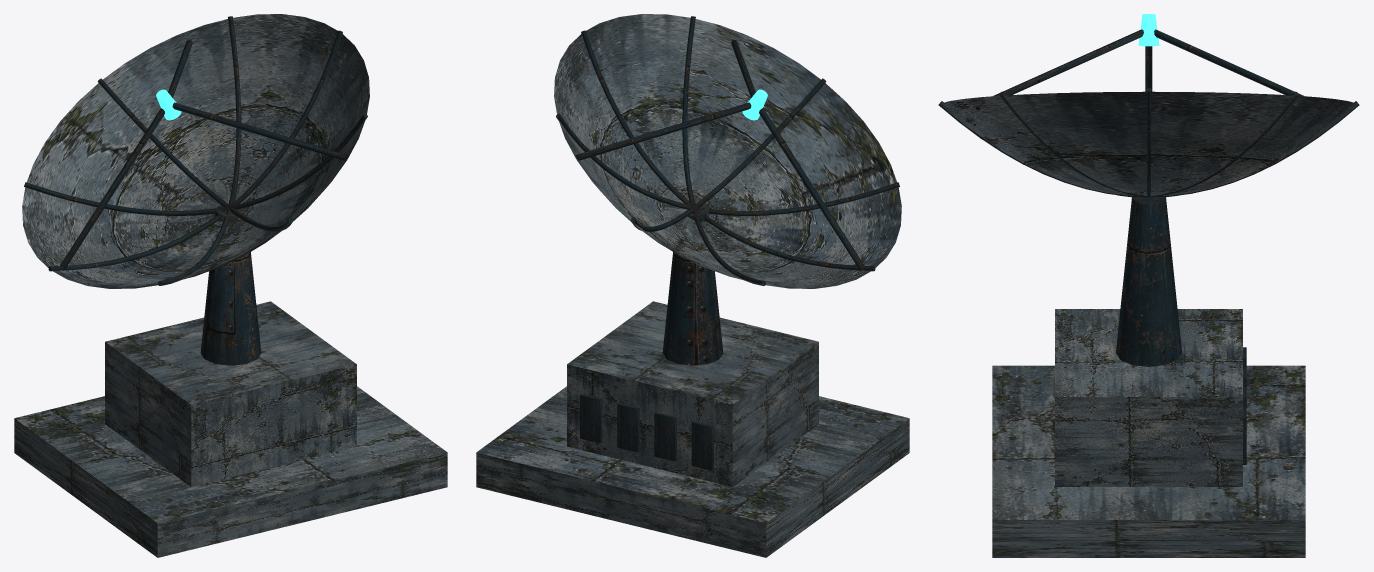
File: relay-dish.glb
The picture shows the model from 3 angles, left to right: view 1: azimuth 30°, elevation 25°; view 2: azimuth 150°, elevation 25°; view 3: azimuth 270°, elevation 25°; orthographic projection. The views are drawn at different scales.
Visible parts, largest first — view 1: relay-dish-concrete, relay-dish-steel; view 2: relay-dish-concrete, relay-dish-steel; view 3: relay-dish-concrete, relay-dish-steel, relay-dish-lamp.
Boxes of the visible parts, <box> form: relay-dish-concrete: <box>14,14,447,557</box>; relay-dish-steel: <box>24,16,367,365</box>; relay-dish-concrete: <box>476,14,909,557</box>; relay-dish-steel: <box>556,16,899,470</box>; relay-dish-concrete: <box>940,91,1357,557</box>; relay-dish-steel: <box>938,29,1359,464</box>; relay-dish-lamp: <box>1138,14,1159,46</box>.
Bounding box in the file's own units: 7.88 × 9.52 × 8.07.
Materials: 3 (2 with a texture image).
